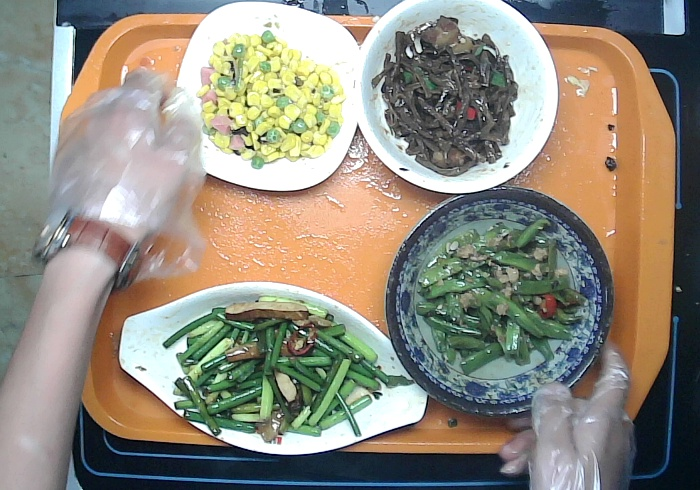ZNLD-Qing_Hua_Wan: (379, 173, 626, 426)
ZNLD-Si_Fang_Wan: (165, 1, 371, 195)
ZNLD-Tang_Wan: (340, 1, 569, 203)
ZNLD-Yu_Pan: (117, 277, 435, 467)
